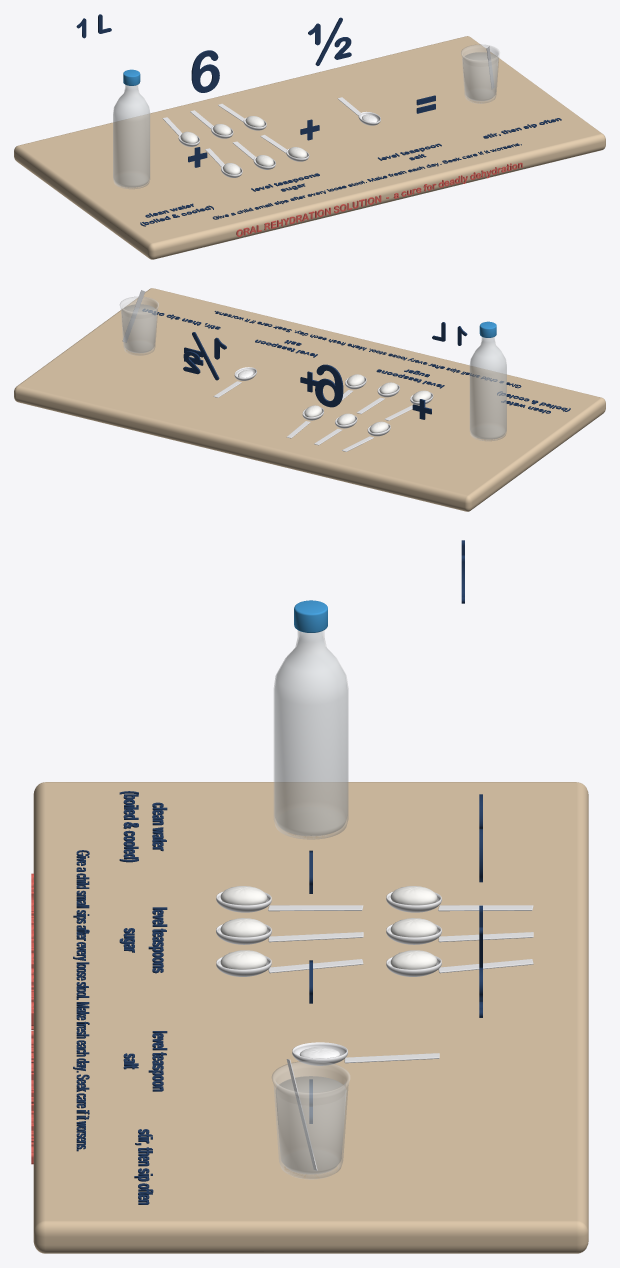
The model's file is ors_recipe.glb.
3 renders of one model, top to bottom at view 1: azimuth 30°, elevation 25°; view 2: azimuth 150°, elevation 25°; view 3: azimuth 270°, elevation 25°, orthographic. The views are drawn at different scales.
Parts seen in each view (by area): view 1: Base_Slab, Bottle_Glass, Bottle_Water, Cup_Glass, Title, Cup_Solution, Footer, Num_Sugar, Num_Salt, Lbl_Water; view 2: Base_Slab, Bottle_Glass, Bottle_Water, Cup_Glass, Cup_Solution, Footer, Num_Sugar, Num_Salt, Lbl_Water, Lbl_Sugar; view 3: Base_Slab, Bottle_Glass, Bottle_Water, Cup_Glass, Cup_Solution, Footer, Lbl_Water, Lbl_Sugar, Bottle_Cap.
Part boxes in pixels (box(x1,y1,x2,y2)): Base_Slab: box(14, 36, 605, 259); Bottle_Glass: box(113, 85, 149, 188); Bottle_Water: box(113, 85, 149, 186); Cup_Glass: box(461, 44, 499, 103); Title: box(236, 162, 522, 236); Cup_Solution: box(463, 52, 497, 100); Footer: box(212, 143, 521, 219); Num_Sugar: box(191, 50, 219, 92); Num_Salt: box(308, 17, 351, 65); Lbl_Water: box(140, 203, 213, 226); Base_Slab: box(14, 288, 605, 511); Bottle_Glass: box(470, 337, 506, 440); Bottle_Water: box(470, 337, 506, 438); Cup_Glass: box(120, 297, 158, 355); Cup_Solution: box(122, 304, 156, 352); Footer: box(214, 311, 521, 388); Num_Sugar: box(315, 364, 343, 407); Num_Salt: box(183, 332, 226, 380); Lbl_Water: box(497, 391, 570, 413); Lbl_Sugar: box(376, 369, 444, 388); Base_Slab: box(33, 782, 588, 1253); Bottle_Glass: box(274, 630, 348, 839); Bottle_Water: box(275, 632, 347, 835); Cup_Glass: box(272, 1061, 349, 1179); Cup_Solution: box(276, 1076, 346, 1173); Footer: box(73, 850, 89, 1151); Lbl_Water: box(119, 791, 167, 862); Lbl_Sugar: box(119, 907, 167, 973); Bottle_Cap: box(294, 600, 327, 632).
Size of the model in its own units: 1.18 by 0.3834 by 0.6225.
